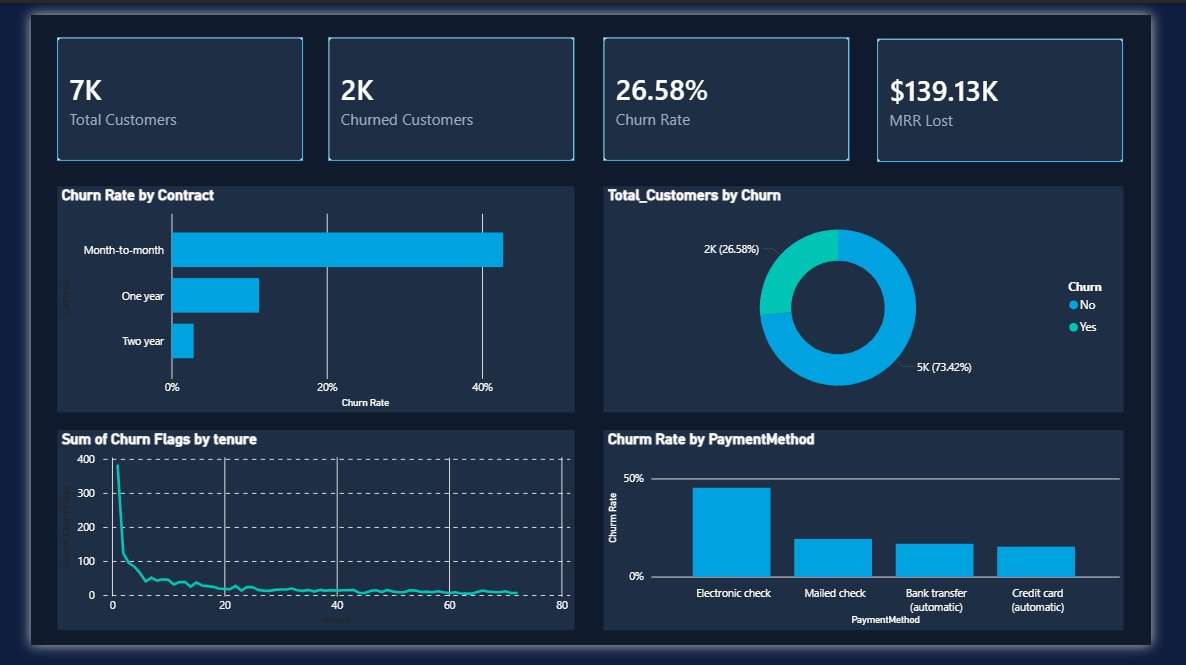

This screenshot's page, from the dashboard's own definition file:
{"tool":"powerbi","page":{"name":"Customer-Churn-Analysis Dashboard","canvas":[1280,720],"ordinal":0},"visuals":[{"type":"cardVisual","fields":{"Data":["Measure.Total_Customers"]},"box":[30,25.7,281.4,141.4],"z":0},{"type":"cardVisual","fields":{"Data":["Measure.MRR Lost"]},"box":[967.1,27.1,281.4,141.4],"z":1000},{"type":"cardVisual","fields":{"Data":["Measure.Churm Rate"]},"box":[654.3,25.7,281.4,141.4],"z":2000},{"type":"cardVisual","fields":{"Data":["Measure.Churmed Customers"]},"box":[340,25.7,281.4,141.4],"z":3000},{"type":"clusteredBarChart","fields":{"Category":["Customers.Contract"],"Y":["Measure.Churm Rate"]},"box":[30,195.7,591.4,258.6],"z":4000},{"type":"lineChart","fields":{"Category":["Customers.tenure"],"Y":["Sum(Customers.Chuen Flags)"]},"box":[30,474.3,591.4,228.6],"z":5000},{"type":"clusteredColumnChart","fields":{"Category":["Customers.PaymentMethod"],"Y":["Measure.Churm Rate"]},"box":[654.3,474.3,594.3,228.6],"z":6000},{"type":"donutChart","fields":{"Category":["Customers.Churn"],"Y":["Measure.Total_Customers"]},"box":[654.3,195.7,594.3,258.6],"z":7000}]}

Visuals, with their boxes in screenshot pixels (x1, y1, x2, y2), scaled from the page's 1280x720 canvas onto the 1186x665 screenshot:
cardVisual - Measure.Total_Customers: 28,24,289,154
cardVisual - Measure.MRR Lost: 896,25,1157,156
cardVisual - Measure.Churm Rate: 606,24,867,154
cardVisual - Measure.Churmed Customers: 315,24,576,154
clusteredBarChart - Customers.Contract x Measure.Churm Rate: 28,181,576,420
lineChart - Customers.tenure x Sum(Customers.Chuen Flags): 28,438,576,649
clusteredColumnChart - Customers.PaymentMethod x Measure.Churm Rate: 606,438,1157,649
donutChart - Customers.Churn x Measure.Total_Customers: 606,181,1157,420
